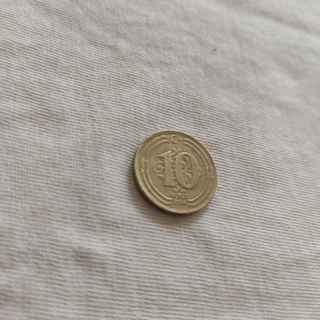10KURUS: (131, 128, 218, 217)
